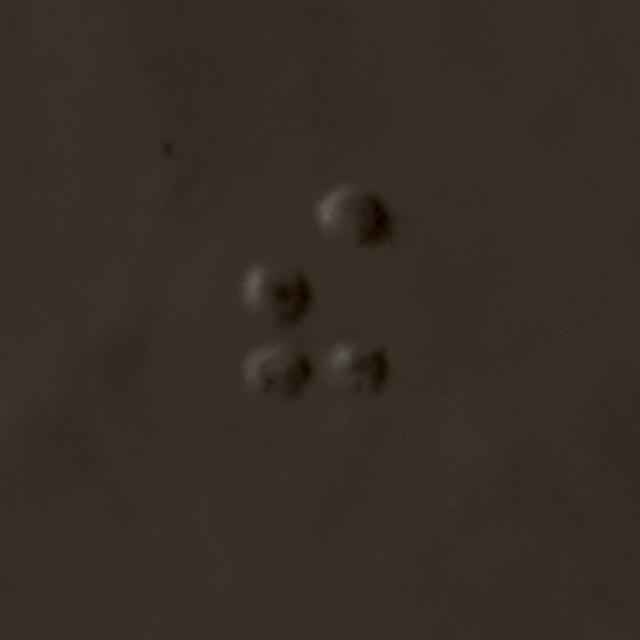ang: (242, 184, 393, 399)
